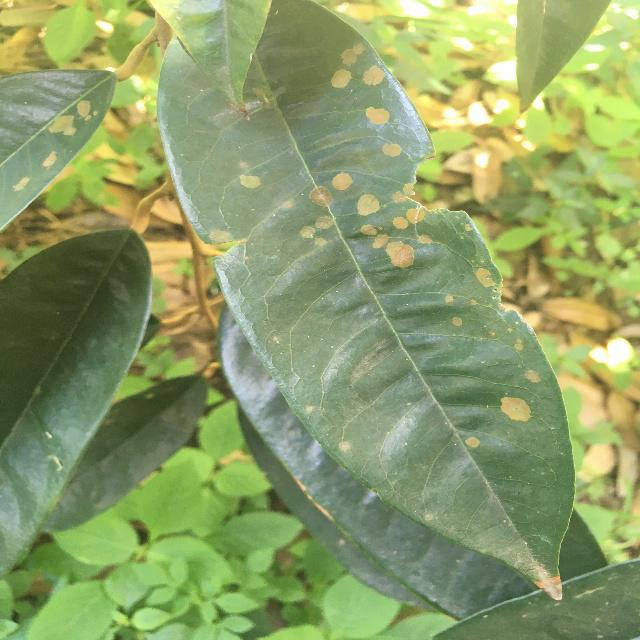Algal Leaf Spot: (151, 0, 578, 606)
